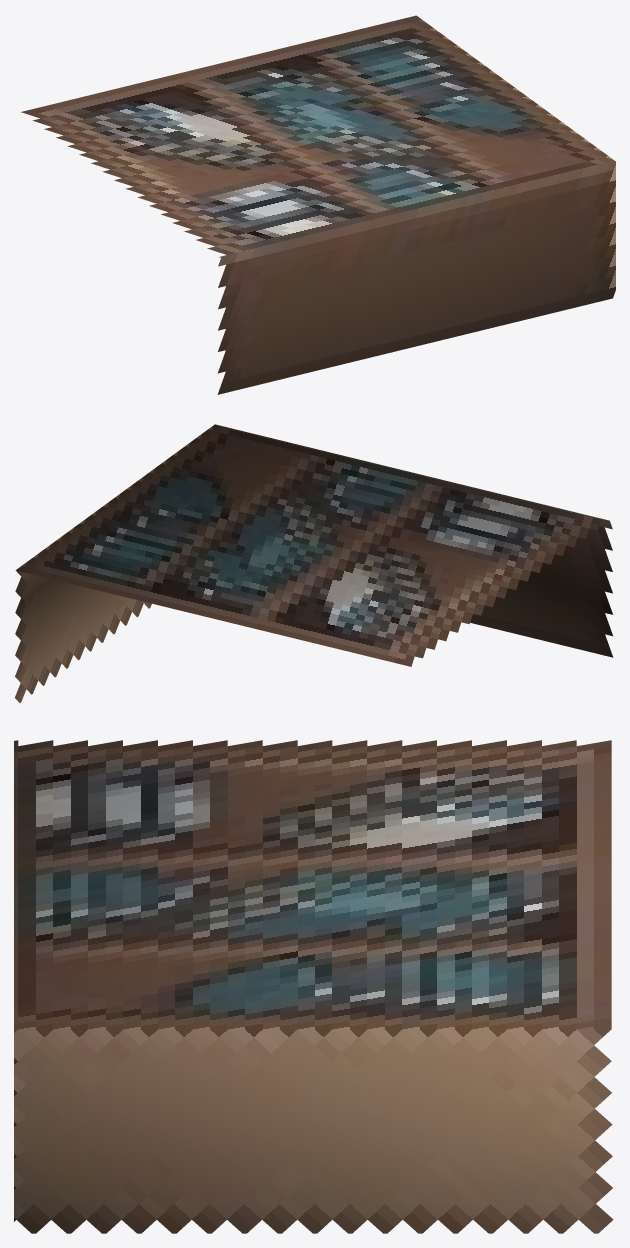
Rendered from InteractiveTrigger_quest82101.glb.
3 renders of one model, top to bottom at view 1: azimuth 30°, elevation 25°; view 2: azimuth 150°, elevation 25°; view 3: azimuth 270°, elevation 25°, orthographic. The views are drawn at different scales.
Visible parts, largest first — view 1: 25DBG_Sector01_Zone01_Prop_BookShelf_5; view 2: 25DBG_Sector01_Zone01_Prop_BookShelf_5; view 3: 25DBG_Sector01_Zone01_Prop_BookShelf_5.
Boxes of the visible parts, x1,y1,x2,y2 form: 25DBG_Sector01_Zone01_Prop_BookShelf_5: (21,15,615,394); 25DBG_Sector01_Zone01_Prop_BookShelf_5: (15,424,613,702); 25DBG_Sector01_Zone01_Prop_BookShelf_5: (14,740,613,1233).
Bounding box in the file's own units: 1.21 × 0.3915 × 1.05.
Materials: 1 (1 with a texture image).
